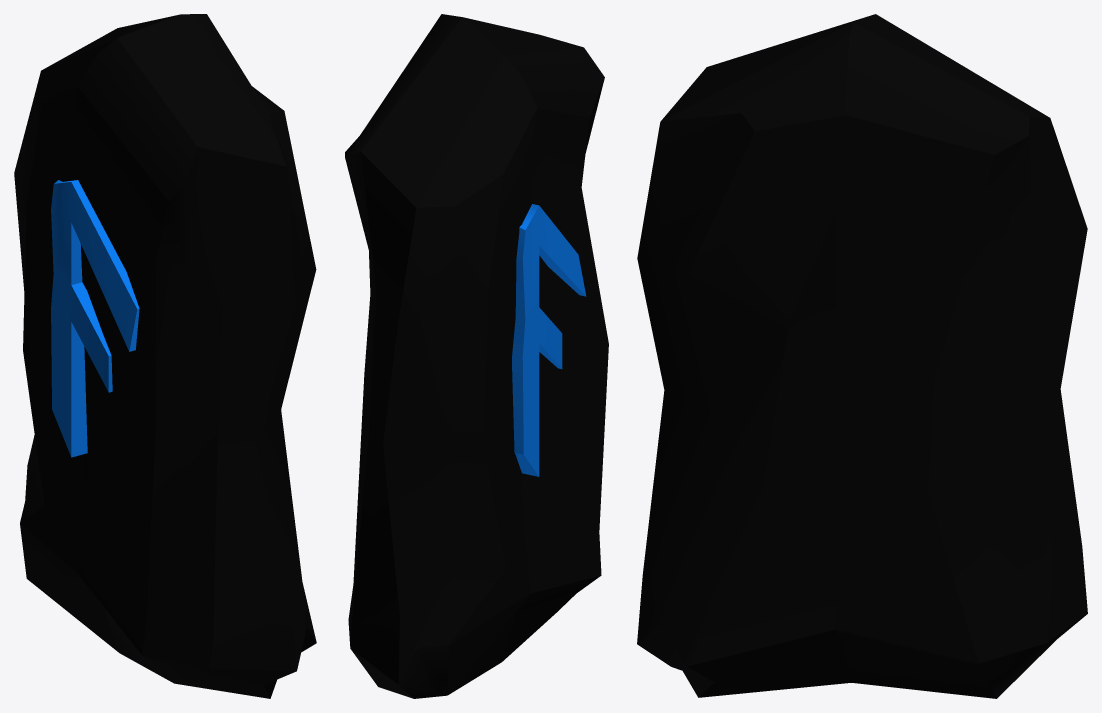
File: export_rune2.fbx
The picture shows the model from 3 angles, left to right: view 1: azimuth 30°, elevation 25°; view 2: azimuth 150°, elevation 25°; view 3: azimuth 270°, elevation 25°; orthographic projection. The views are drawn at different scales.
Visible parts, largest first — view 1: Rune; view 2: Rune; view 3: Rune.
Boxes of the visible parts, box(x1,y1,x2,y2) form: Rune: box(14, 14, 316, 698); Rune: box(345, 14, 608, 698); Rune: box(637, 14, 1087, 698).
Bounding box in the file's own units: 16.49 × 65.73 × 40.25.
